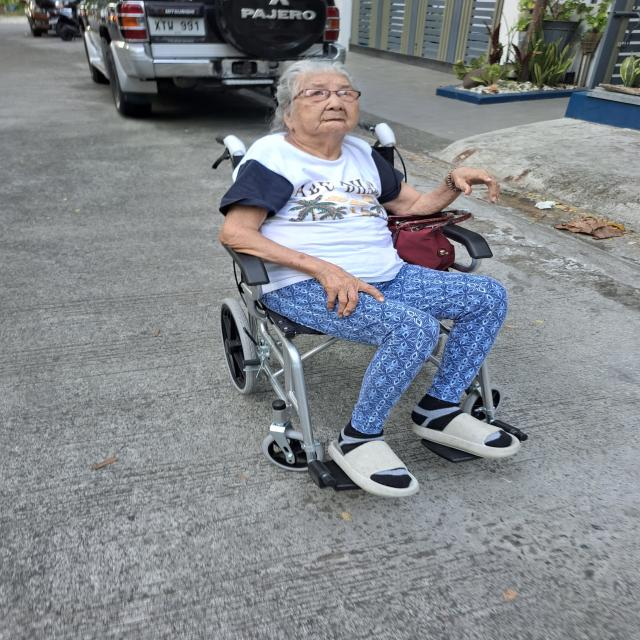wheelchairs: (206, 139, 542, 504)
